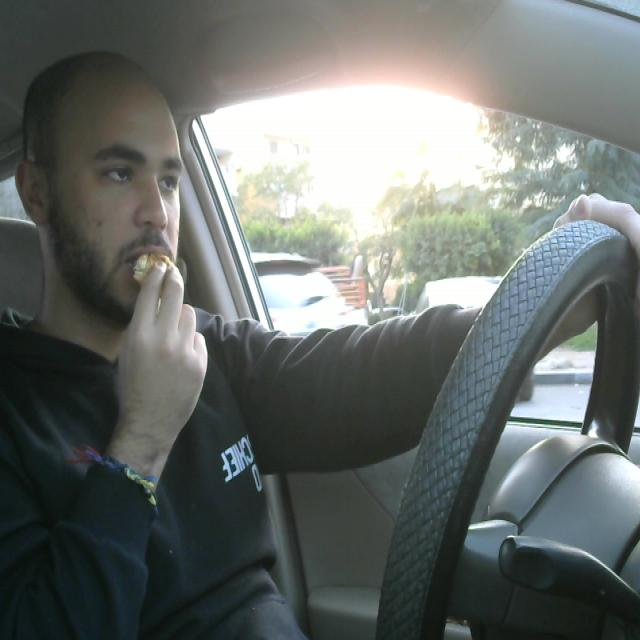eating: (136, 240, 192, 320)
